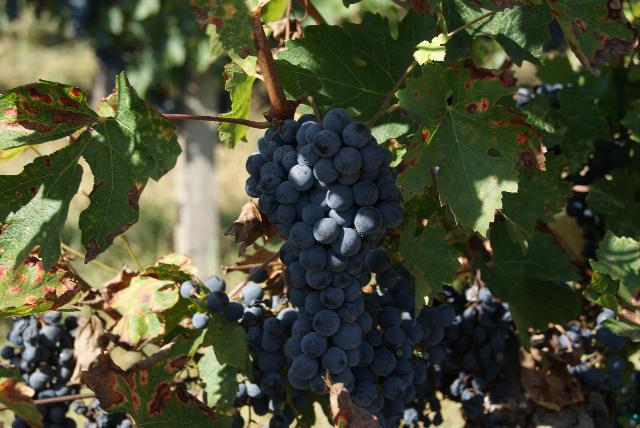grapes: (250, 109, 404, 391), (346, 248, 432, 425), (429, 281, 516, 424), (0, 311, 78, 400), (39, 401, 76, 428)
